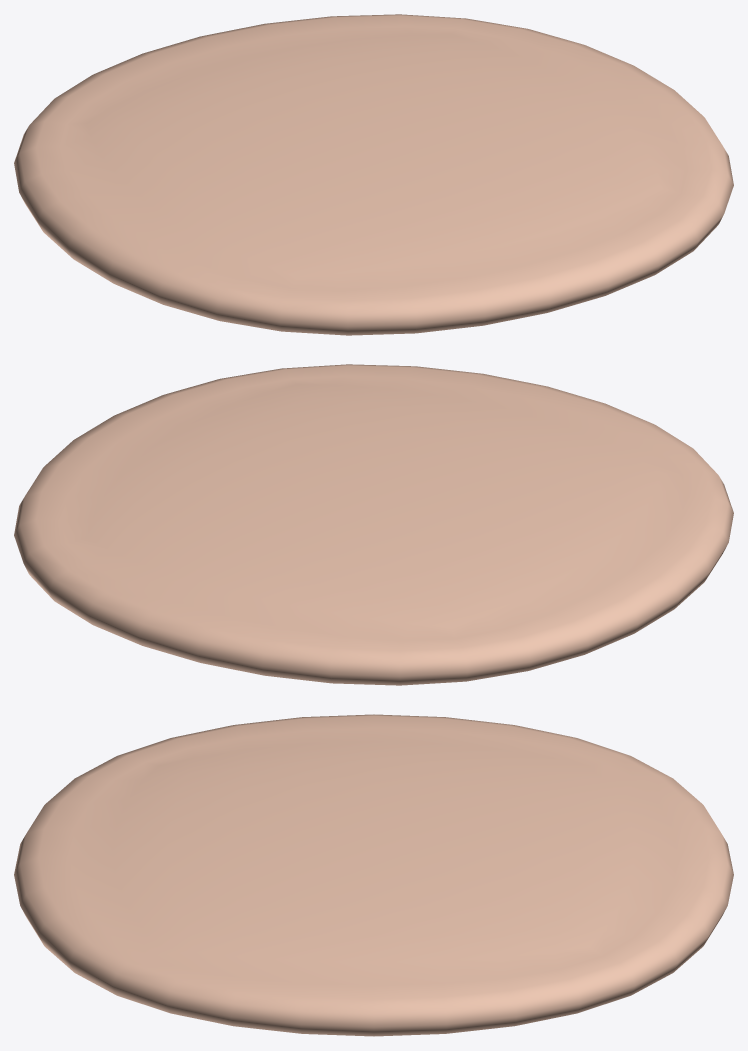
The model's file is doughDone.fbx.
3 views of the same model, one above another, from view 1: azimuth 30°, elevation 25°; view 2: azimuth 150°, elevation 25°; view 3: azimuth 270°, elevation 25° (orthographic).
Parts seen in each view (by area): view 1: Cube; view 2: Cube; view 3: Cube.
Boxes of the visible parts, left/top/right/bottom form: Cube: left=14, top=14, right=733, bottom=335; Cube: left=14, top=364, right=733, bottom=685; Cube: left=14, top=714, right=733, bottom=1036.
Size of the model in its own units: 386 by 25.98 by 386.
